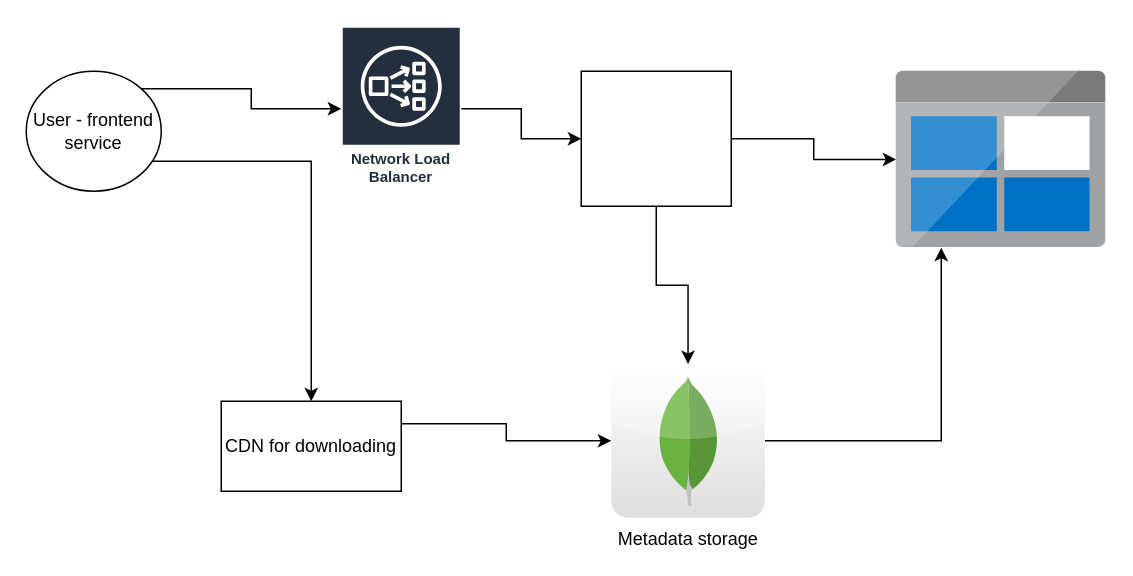
This 1133x576 diagram has some shape labels left out. Here are the shapes that lost their labels. From the top down, the centre of each, then its label:
the point at 655,138: REST API service
the point at 1001,158: Blob storage
